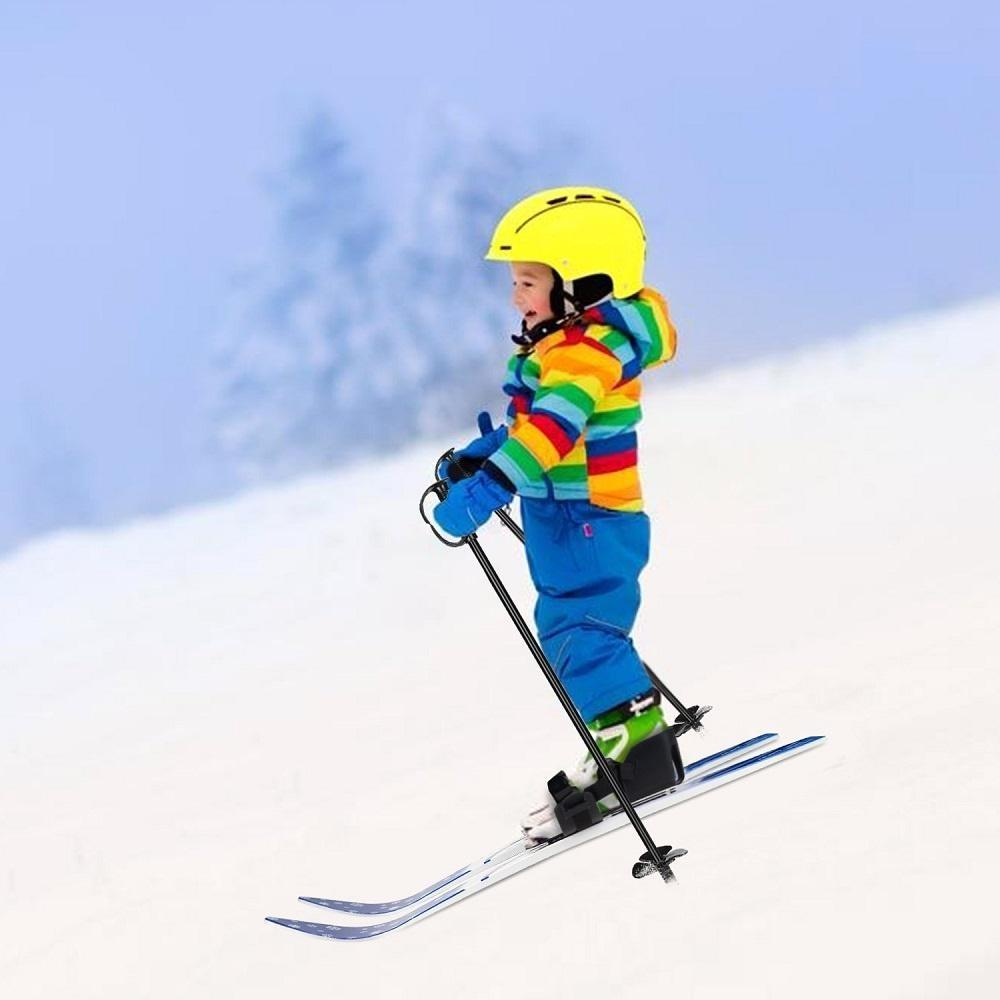Skis: (239, 671, 828, 974)
